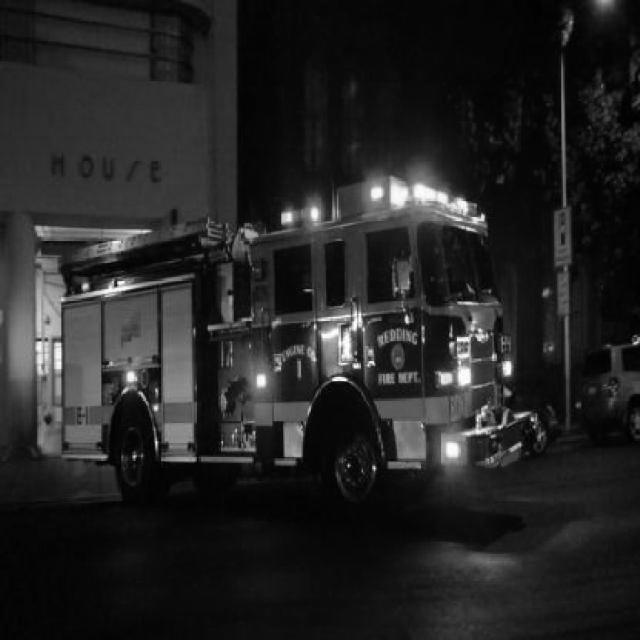Fire Truck: (63, 180, 558, 522)
